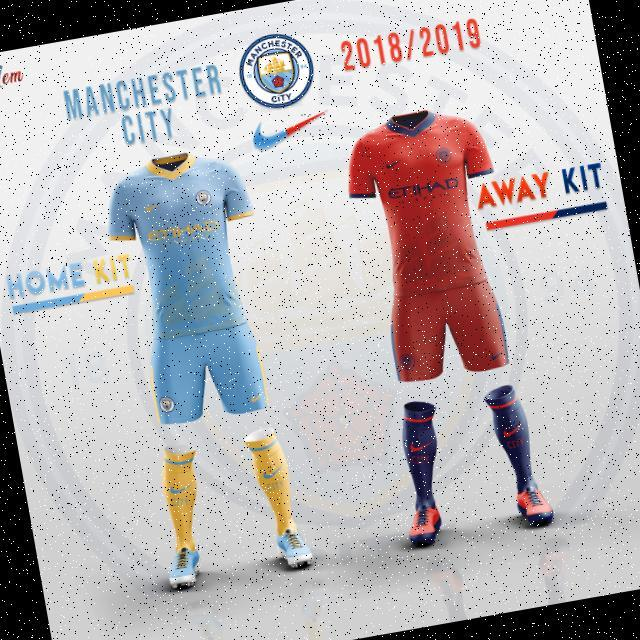Etihad Airways: (147, 219, 220, 249), (387, 176, 460, 206)
Nike: (250, 107, 334, 153), (501, 418, 526, 437), (262, 461, 286, 479), (409, 438, 435, 452), (169, 481, 196, 494), (490, 349, 506, 360), (385, 160, 404, 169), (250, 391, 265, 402), (145, 202, 162, 211)
